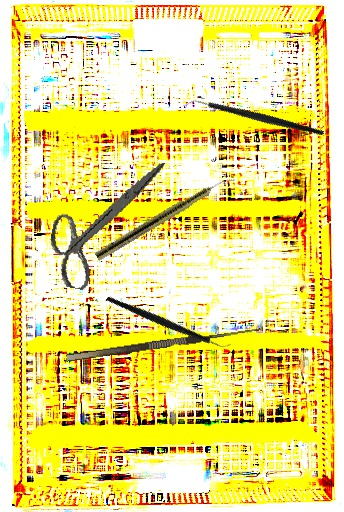Chopper: (182, 57, 325, 180), (104, 259, 234, 384)
Handpiece: (94, 171, 236, 263)
Hook Surgical: (64, 316, 262, 362)
Iris Scissors: (41, 143, 166, 302)
